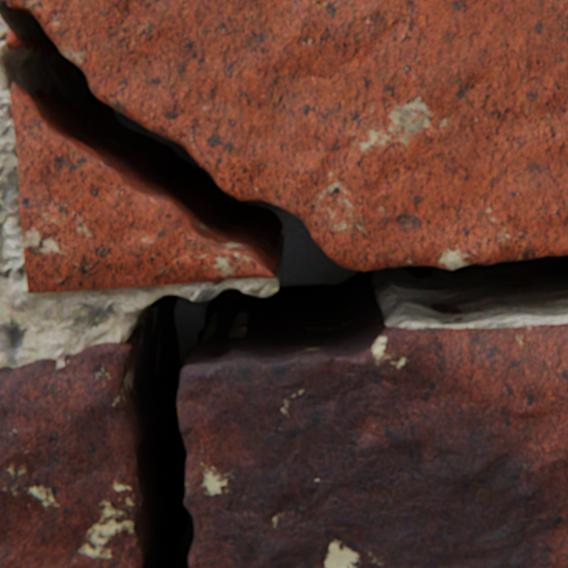broken_brick: (7, 0, 567, 270), (178, 323, 567, 567), (12, 83, 274, 293), (0, 342, 143, 567), (7, 29, 20, 50)
crack: (0, 2, 567, 567)
